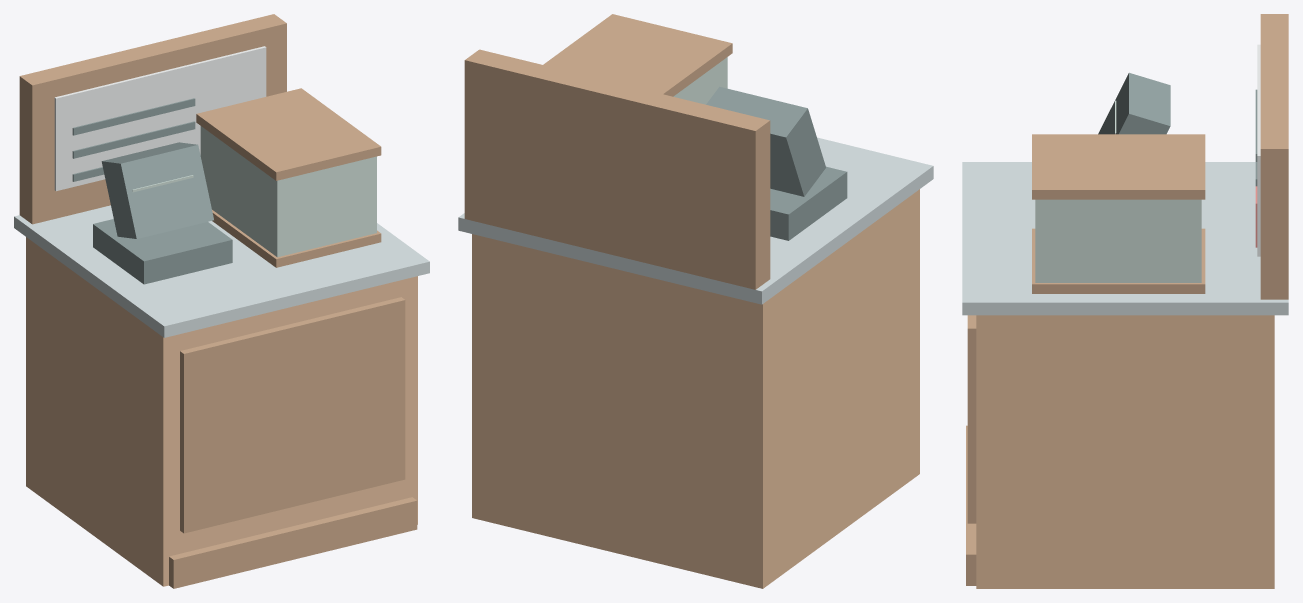
File: serviceCounter.glb
3 renders of one model, left to right at view 1: azimuth 30°, elevation 25°; view 2: azimuth 150°, elevation 25°; view 3: azimuth 270°, elevation 25°, orthographic. The views are drawn at different scales.
Visible parts, largest first — view 1: serviceCounter; view 2: serviceCounter; view 3: serviceCounter.
Part boxes in pixels (bbox=[...]): serviceCounter: bbox=[14, 14, 429, 588]; serviceCounter: bbox=[458, 14, 933, 588]; serviceCounter: bbox=[962, 14, 1288, 588].
Size of the model in its own units: 0.48 by 0.7 by 0.47.
